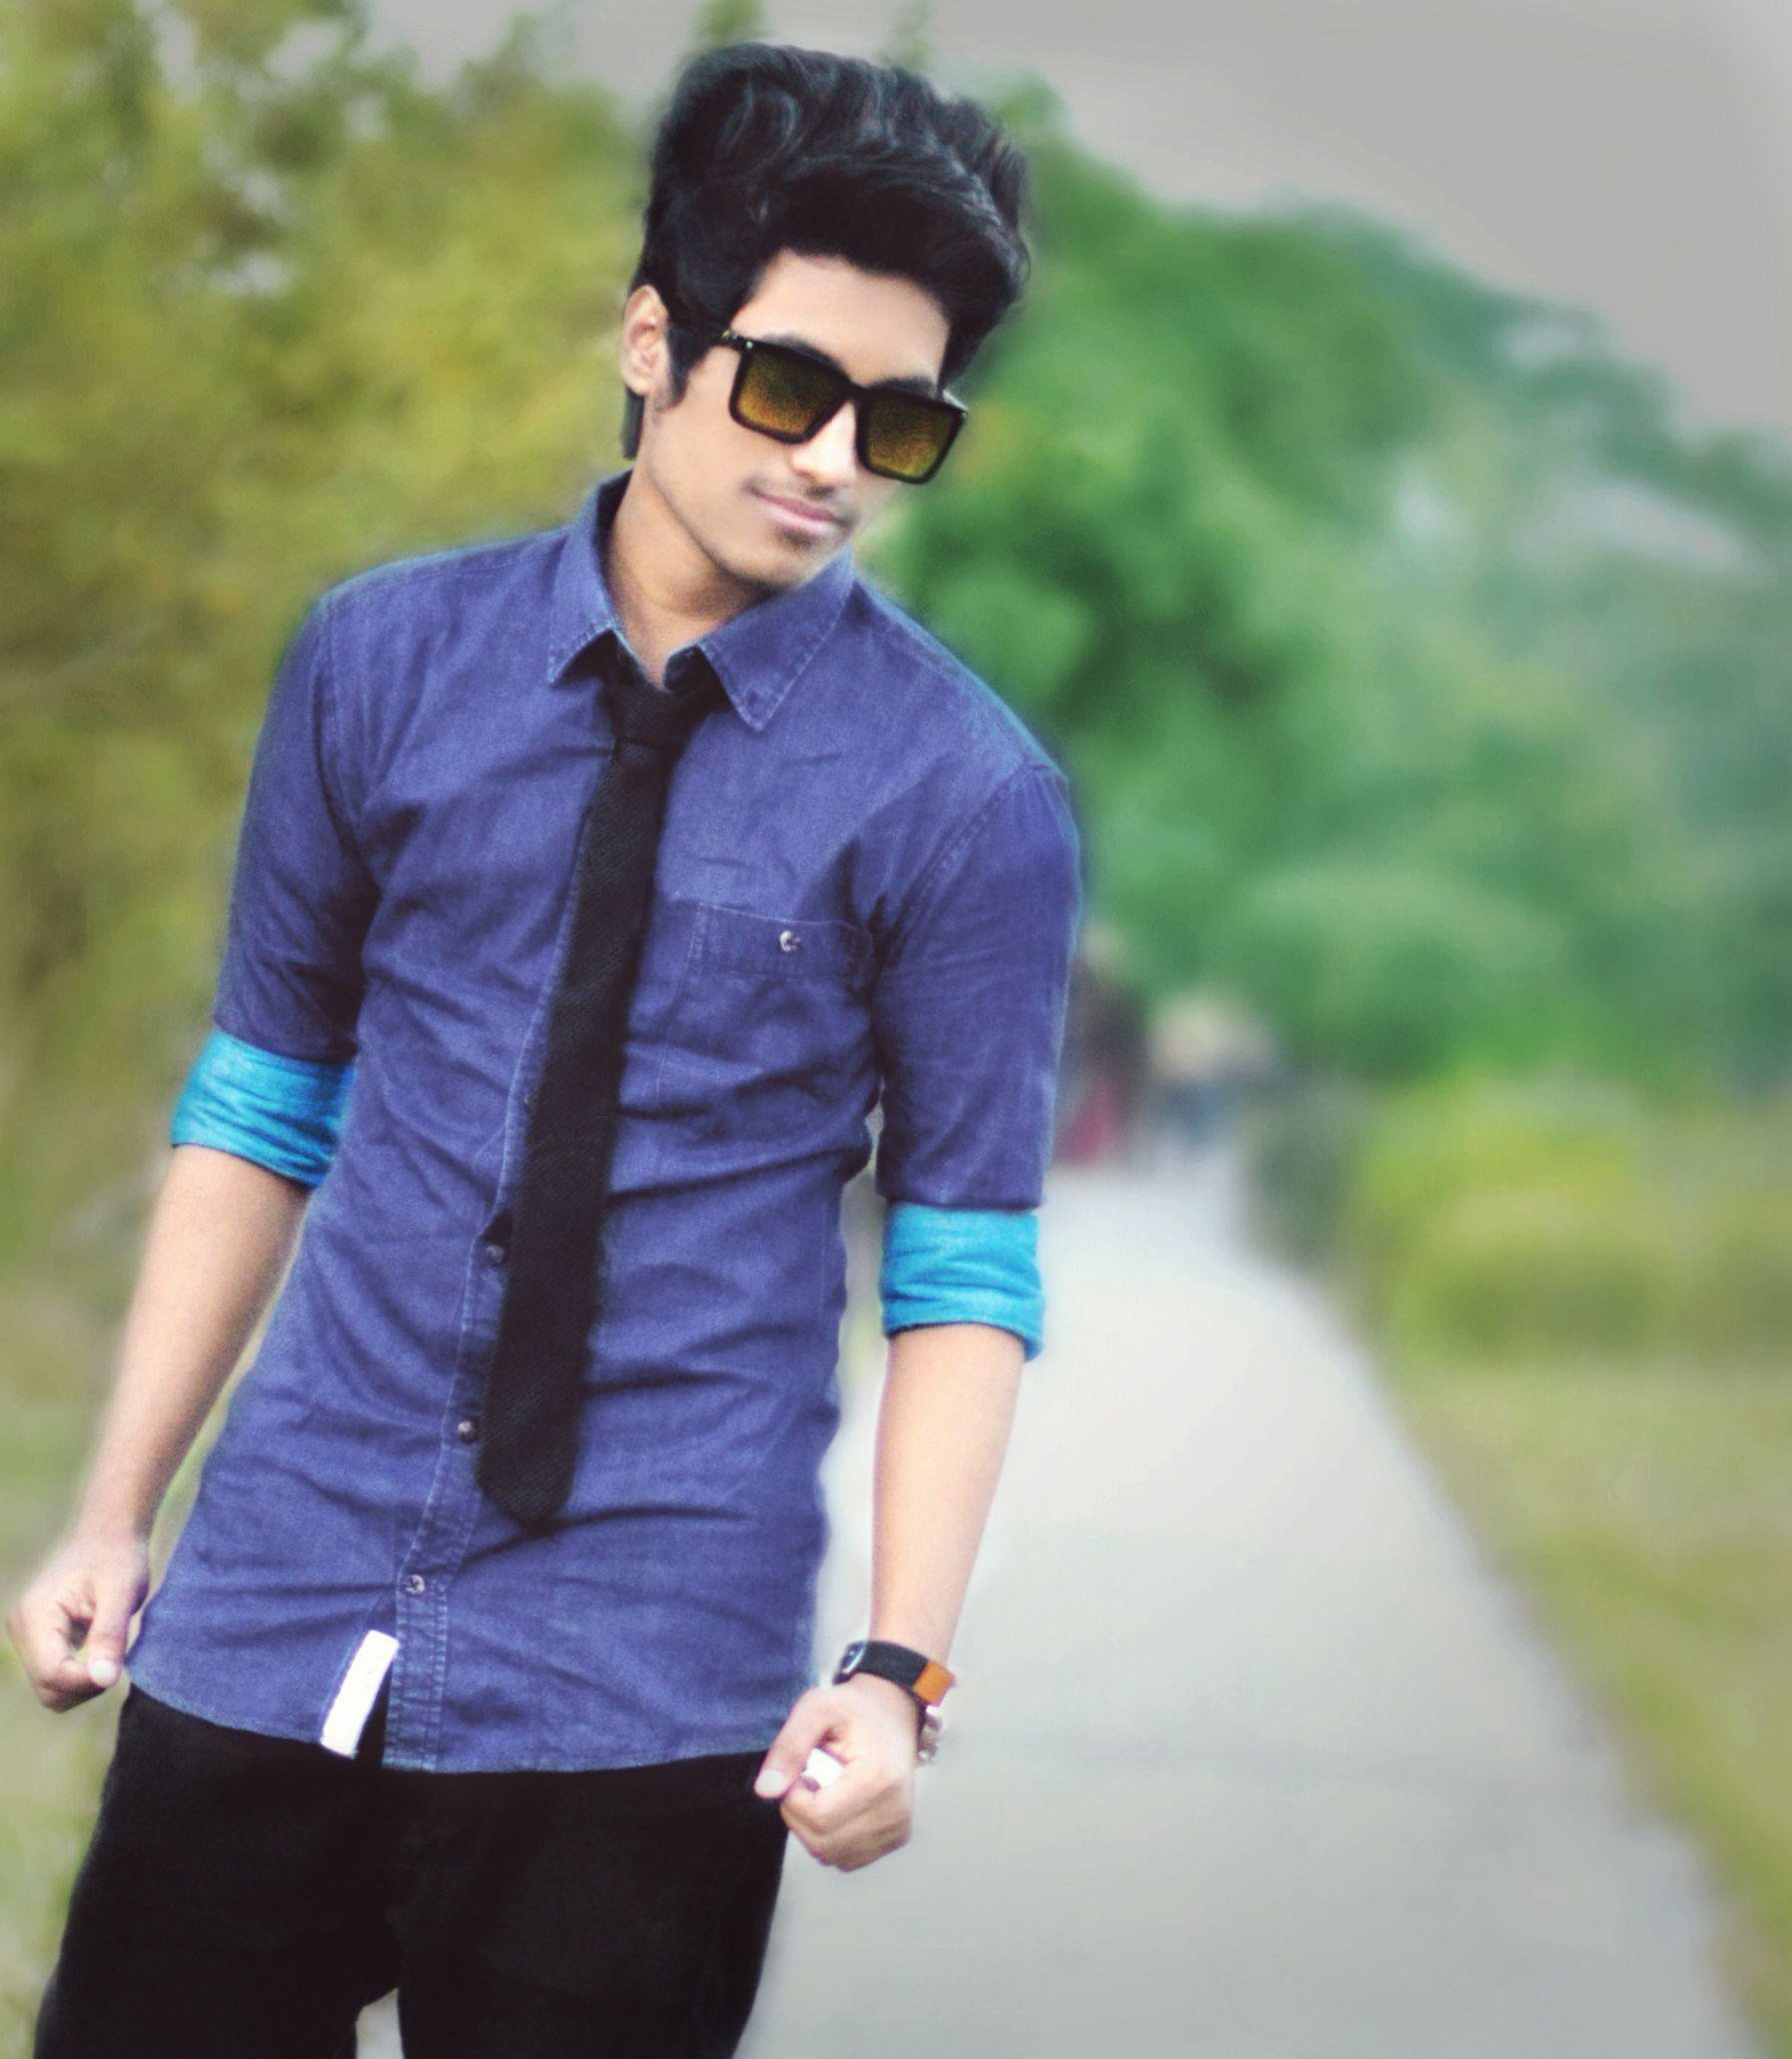noMask: (535, 39, 1029, 629)
